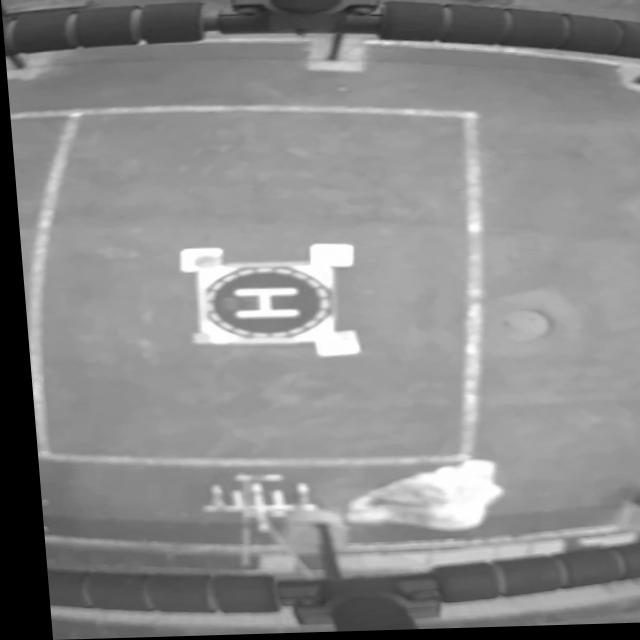Helipad: (228, 289, 292, 319)
